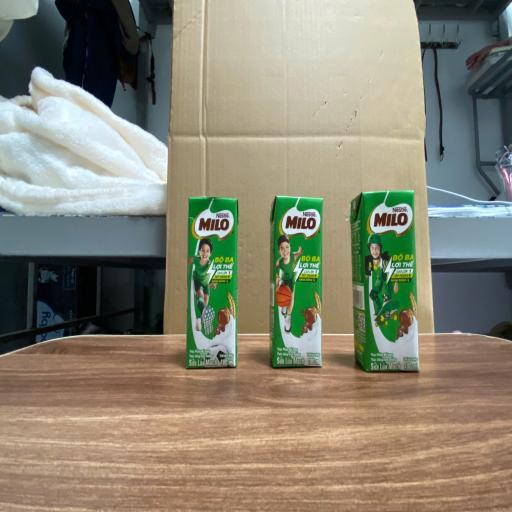milo: (354, 193, 417, 368), (270, 197, 324, 367), (188, 198, 238, 368)
